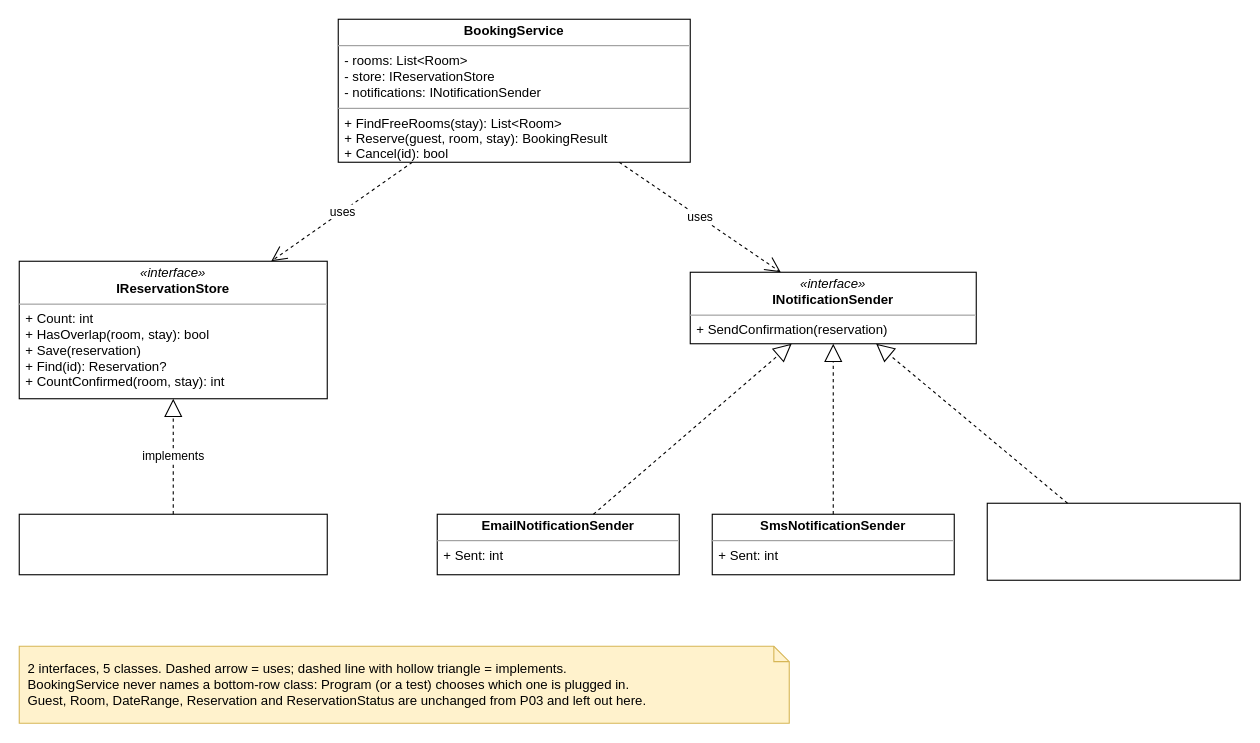
Some shapes in this 1260 by 743 pixel diagram are drawn without their labels. Here are the shapes that lost their labels. From the top down, the centre of each, then its label:
the point at 172,544: InMemoryReservationStore - rows: List<Reservation>
the point at 1113,541: «tests only» FakeNotificationSender + Sent: List<string>
